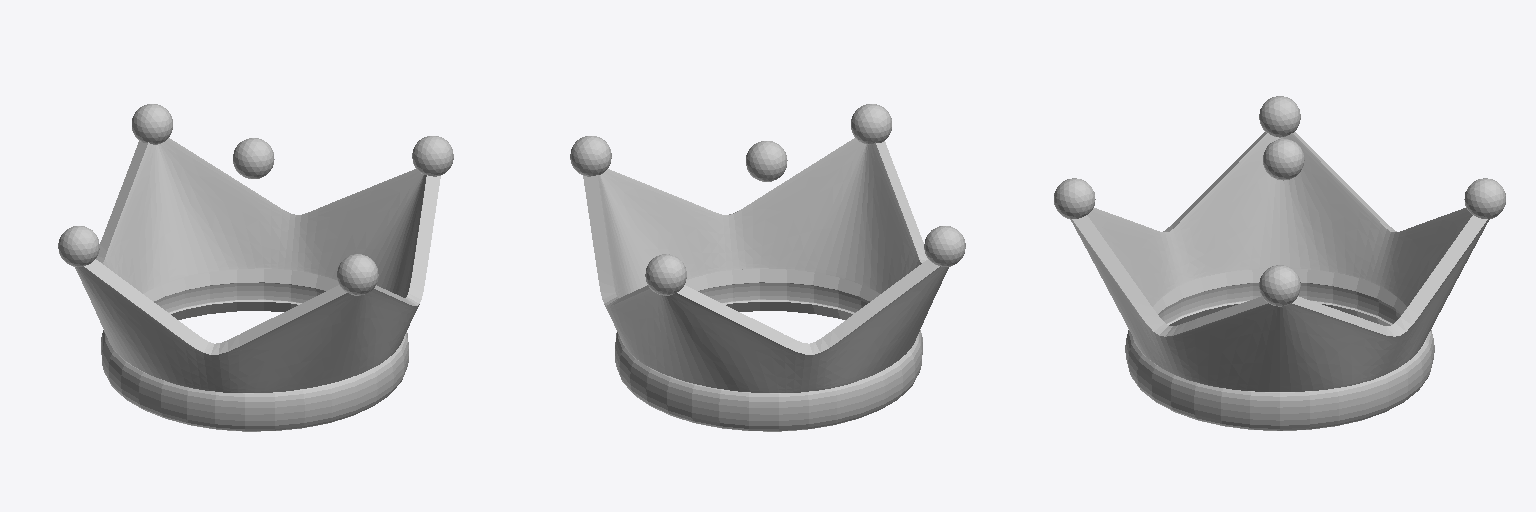
The model's file is 1Bowsette Crown.obj.
3 renders of one model, left to right at view 1: azimuth 30°, elevation 25°; view 2: azimuth 150°, elevation 25°; view 3: azimuth 270°, elevation 25°, orthographic.
Parts seen in each view (by area): view 1: Circle.000_Circle.002; view 2: Circle.000_Circle.002; view 3: Circle.000_Circle.002.
Boxes of the visible parts, x1,y1,x2,y2 form: Circle.000_Circle.002: [58, 104, 453, 431]; Circle.000_Circle.002: [570, 104, 965, 431]; Circle.000_Circle.002: [1054, 96, 1505, 430].
Bounding box in the file's own units: 0.1616 × 0.0911 × 0.1623.